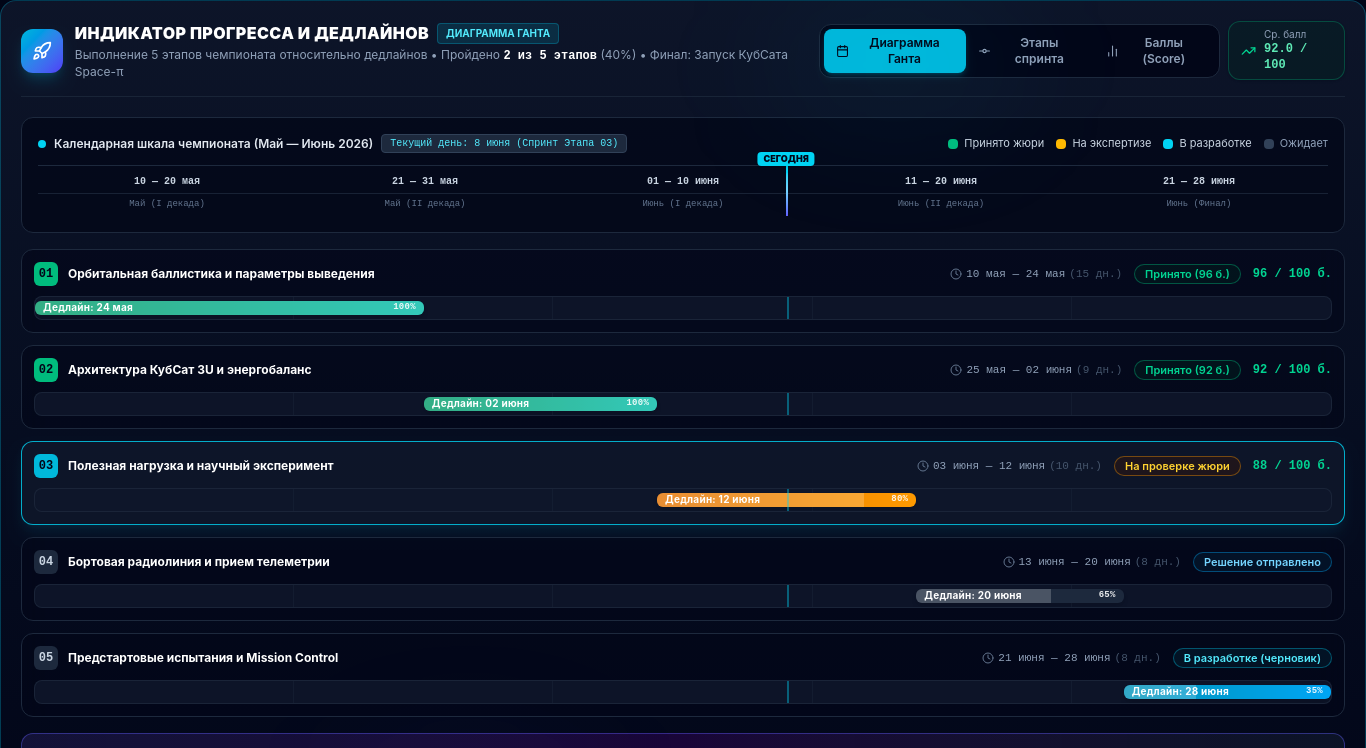
Scenario: ChampionshipProgressBar: Диаграмма Ганта и индикатор дедлайнов › переключает режимы отображения между Гантом, шагами спринта и баллами
Click "Этапы спринта"
Click the button "Этапы спринта" at (1030, 50), box [966,28,1094,72]
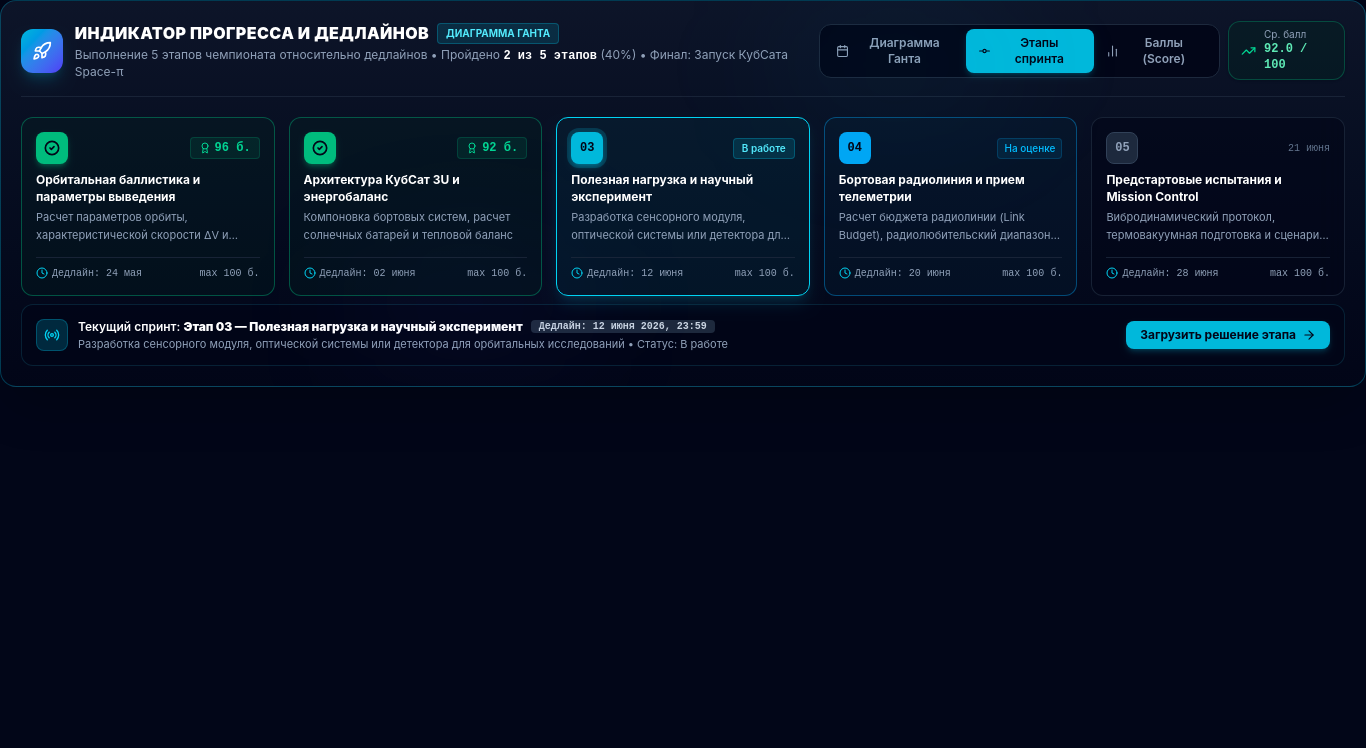
Now the 1st text "max 100 б." is shown, box [200,266,260,281]
Click "Баллы (Score)"
Click the button "Баллы (Score)" at (1154, 50), box [1094,28,1215,72]
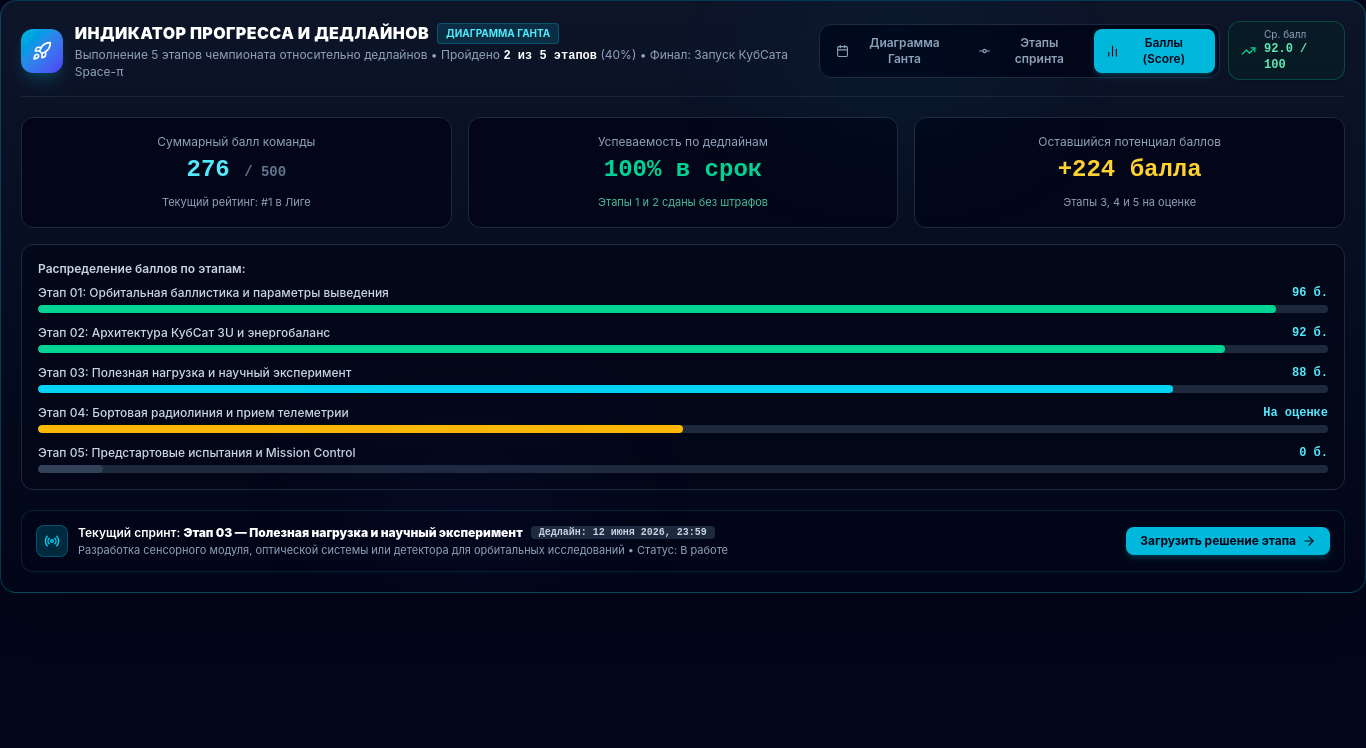
Now the text "Суммарный балл команды" is shown, box [157,134,316,149]
Now the text "Распределение баллов по этапам:" is shown, box [38,260,246,276]
